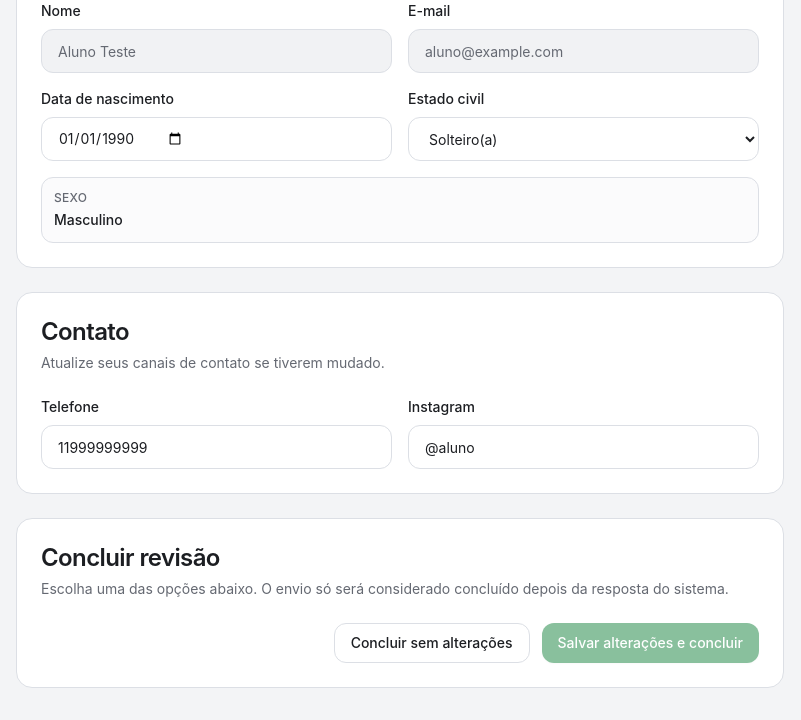
it: StudentProfileReview › não mostra sucesso falso quando o envio falha e a revisão continua pendente
(page scrolled)
Replace the text in the field labelled "Telefone" with "11977776666": (216, 447) [41,425,392,469]
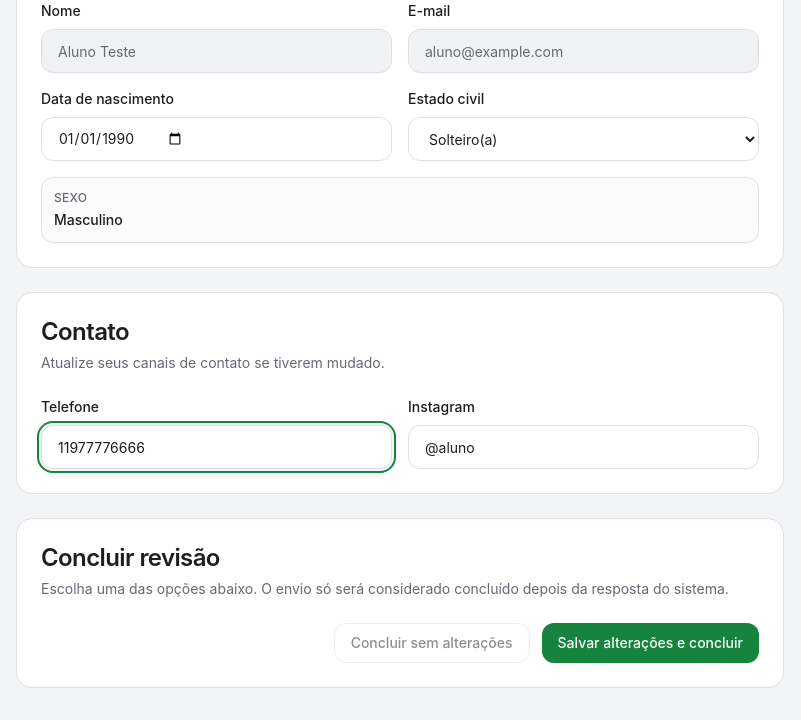
Click the button "Salvar alterações e concluir": (650, 643) [542,623,759,663]
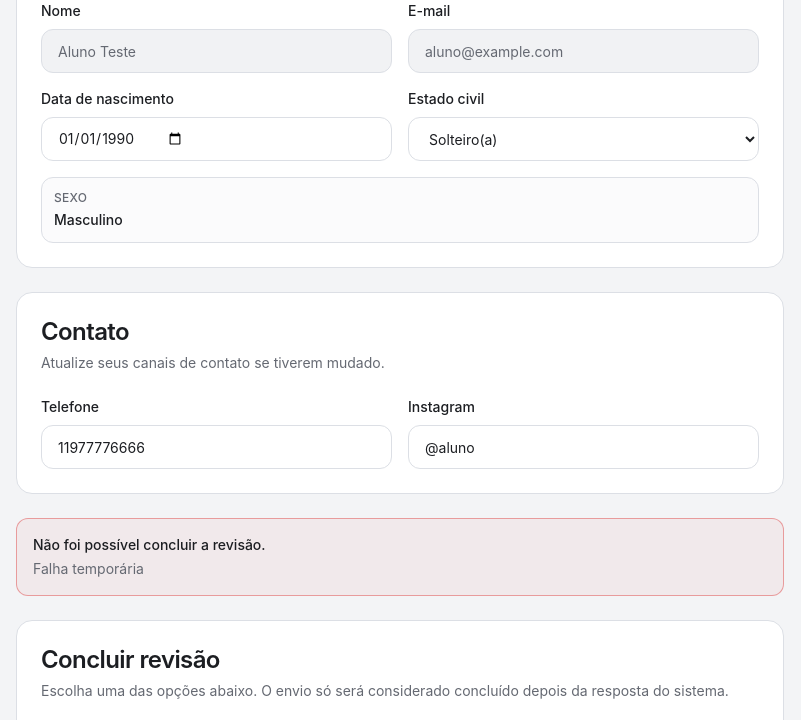
Check: the message shows "Falha temporária", box [33,560,144,577]
